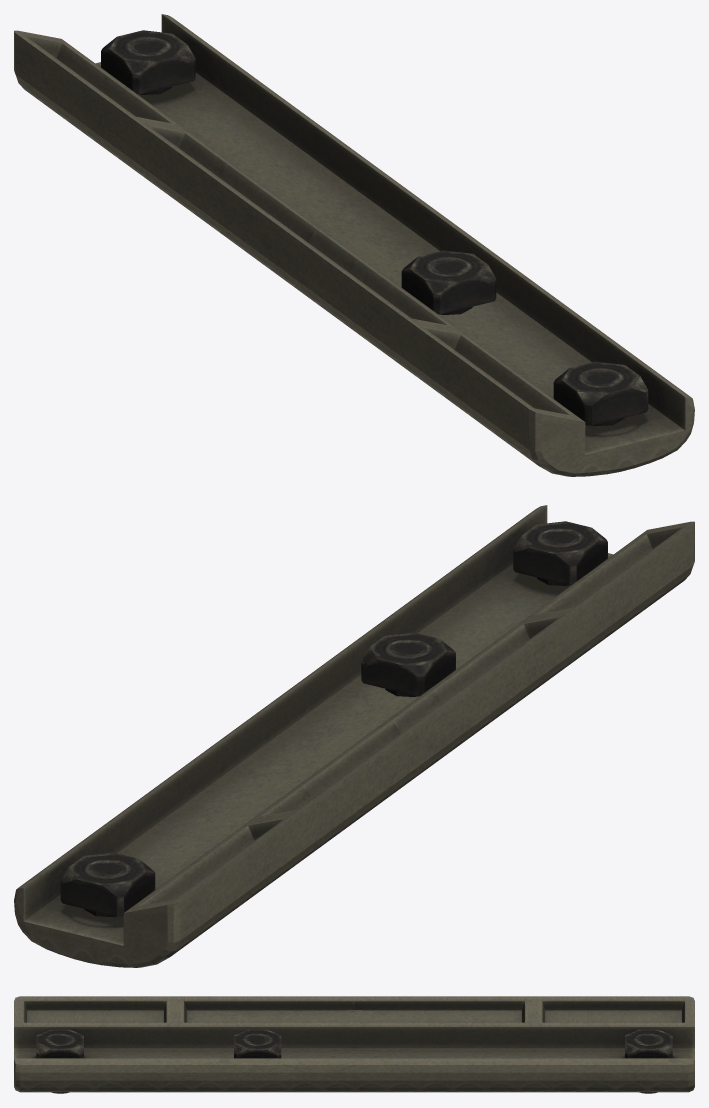
3 views of the same model, one above another, from view 1: azimuth 30°, elevation 25°; view 2: azimuth 150°, elevation 25°; view 3: azimuth 270°, elevation 25° (orthographic). The views are drawn at different scales.
Visible parts, largest first — view 1: TW_5d124c0ed7ad1a10d168dd9b_PZ_Import; view 2: TW_5d124c0ed7ad1a10d168dd9b_PZ_Import; view 3: TW_5d124c0ed7ad1a10d168dd9b_PZ_Import.
Part boxes in pixels (bbox=[...]): TW_5d124c0ed7ad1a10d168dd9b_PZ_Import: bbox=[14, 14, 694, 476]; TW_5d124c0ed7ad1a10d168dd9b_PZ_Import: bbox=[14, 505, 694, 967]; TW_5d124c0ed7ad1a10d168dd9b_PZ_Import: bbox=[14, 996, 694, 1093].
Bounding box in the file's own units: 0.0145 × 0.0804 × 0.00759.
Materials: 1 (1 with a texture image).
